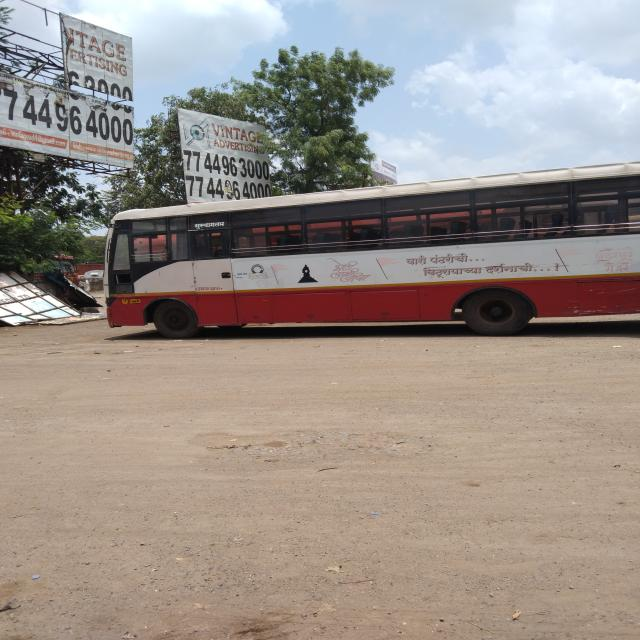Bus: (107, 164, 638, 338)
